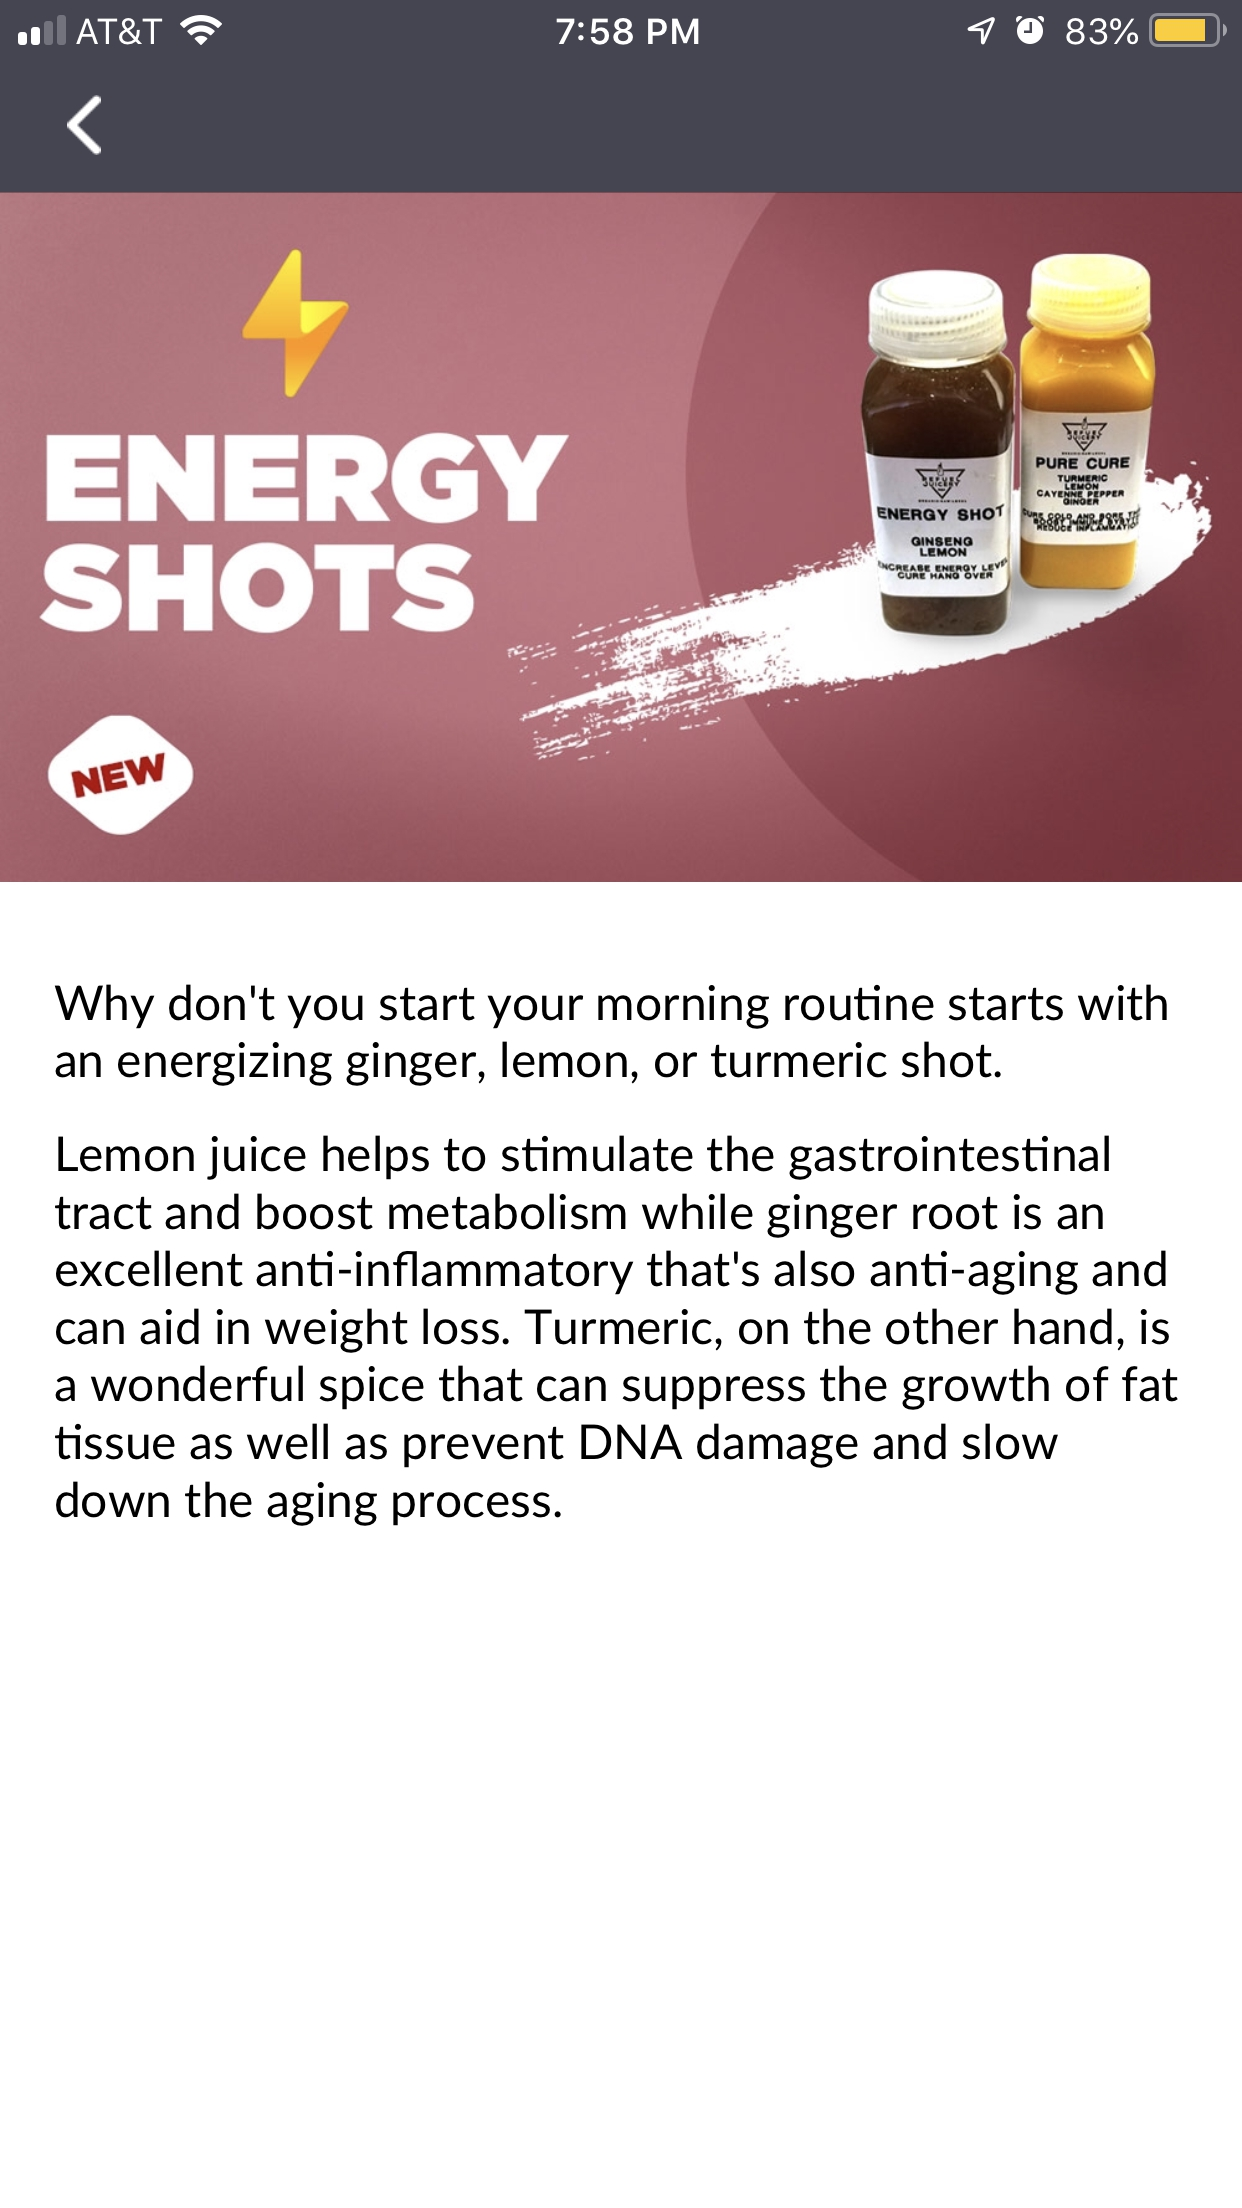Icon: (67, 96, 103, 158)
Image: (2, 193, 1242, 883)
Text: (55, 1134, 1178, 1527), (55, 983, 1168, 1087), (39, 434, 572, 634)
UpperTaskBar: (2, 2, 1242, 49)
